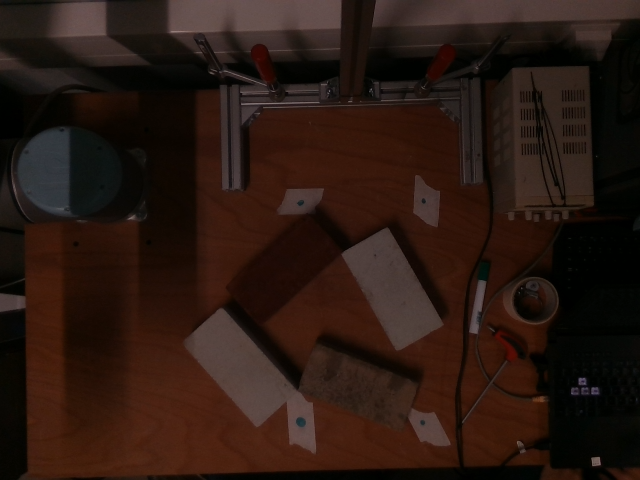brick: (185, 311, 295, 426), (226, 214, 342, 323), (344, 230, 441, 350), (298, 343, 419, 427)
